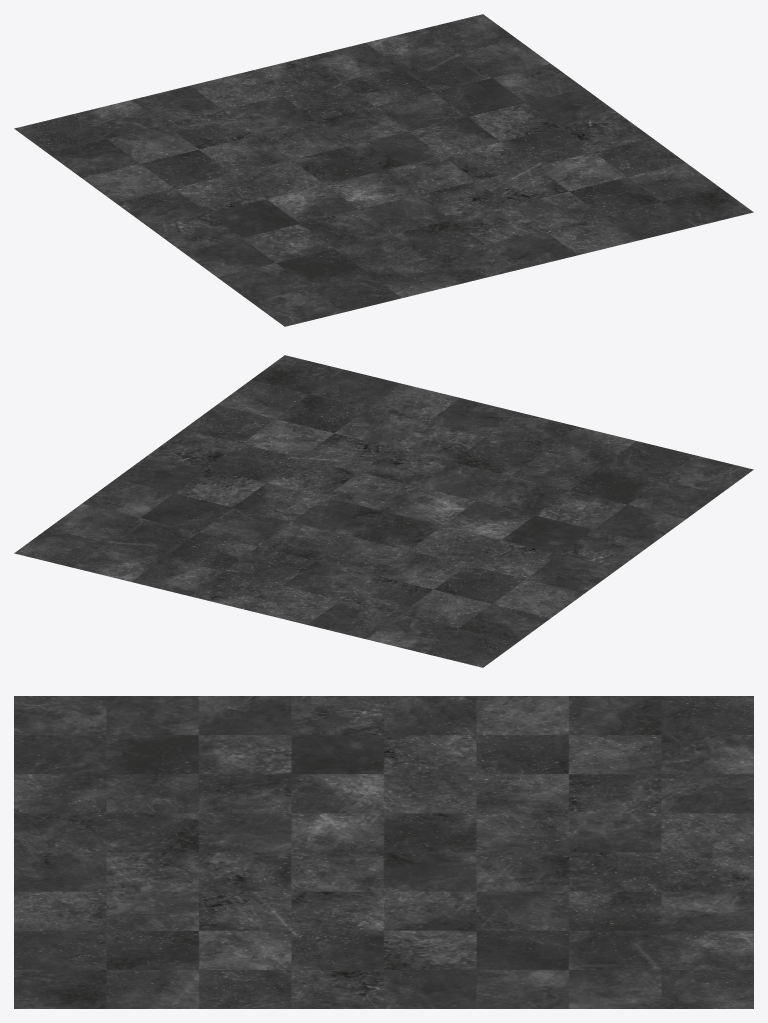
The model's file is Shiny_dark_Tiled_Floor.gltf.
3 views of the same model, one above another, from view 1: azimuth 30°, elevation 25°; view 2: azimuth 150°, elevation 25°; view 3: azimuth 270°, elevation 25° (orthographic). The views are drawn at different scales.
Parts seen in each view (by area): view 1: Plane; view 2: Plane; view 3: Plane.
Boxes of the visible parts, bbox=[...] form: Plane: bbox=[14, 14, 753, 326]; Plane: bbox=[14, 355, 753, 667]; Plane: bbox=[14, 696, 753, 1008].
Bounding box in the file's own units: 10 × 2.22e-15 × 10.
Materials: 1 (1 with a texture image).
